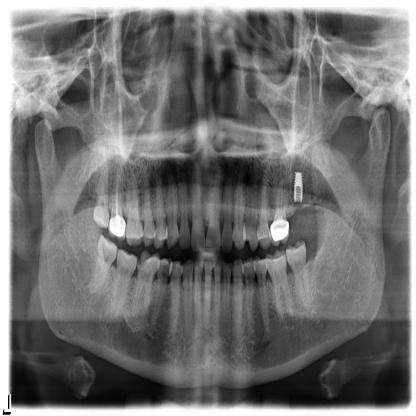Bicon: (290, 164, 307, 203)
